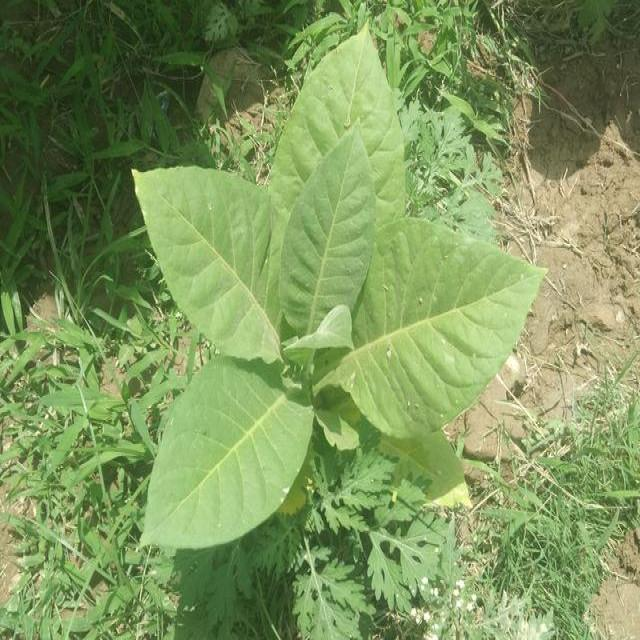crop: (116, 32, 544, 552)
